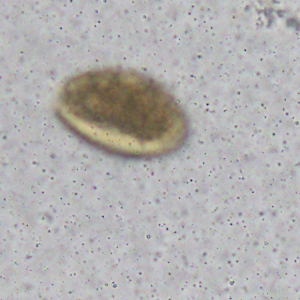Fasciola_hepatica_egg: (53, 64, 187, 159)
